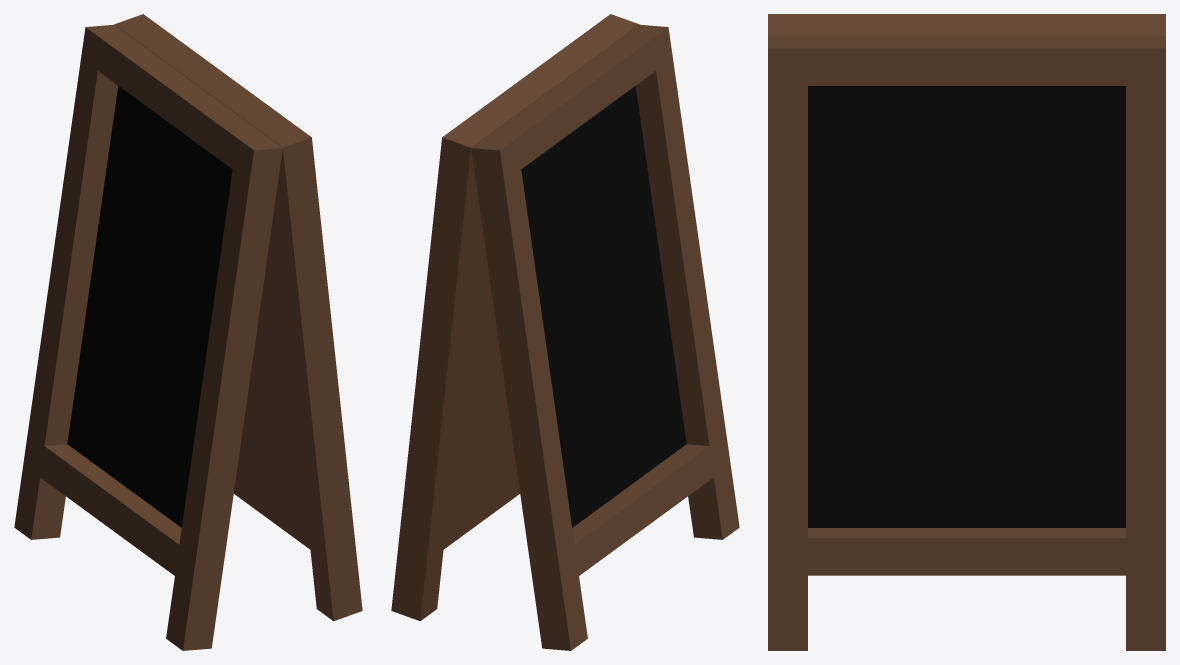
The model's file is ChalkBoard.fbx.
3 renders of one model, left to right at view 1: azimuth 30°, elevation 25°; view 2: azimuth 150°, elevation 25°; view 3: azimuth 270°, elevation 25°, orthographic. The views are drawn at different scales.
Visible parts, largest first — view 1: chalkboard; view 2: chalkboard; view 3: chalkboard.
Part boxes in pixels (x1=…): chalkboard: x1=14, y1=14, x2=362, y2=650; chalkboard: x1=391, y1=14, x2=739, y2=650; chalkboard: x1=768, y1=14, x2=1165, y2=650.
Size of the model in its own units: 6.16 by 16.05 by 10.
